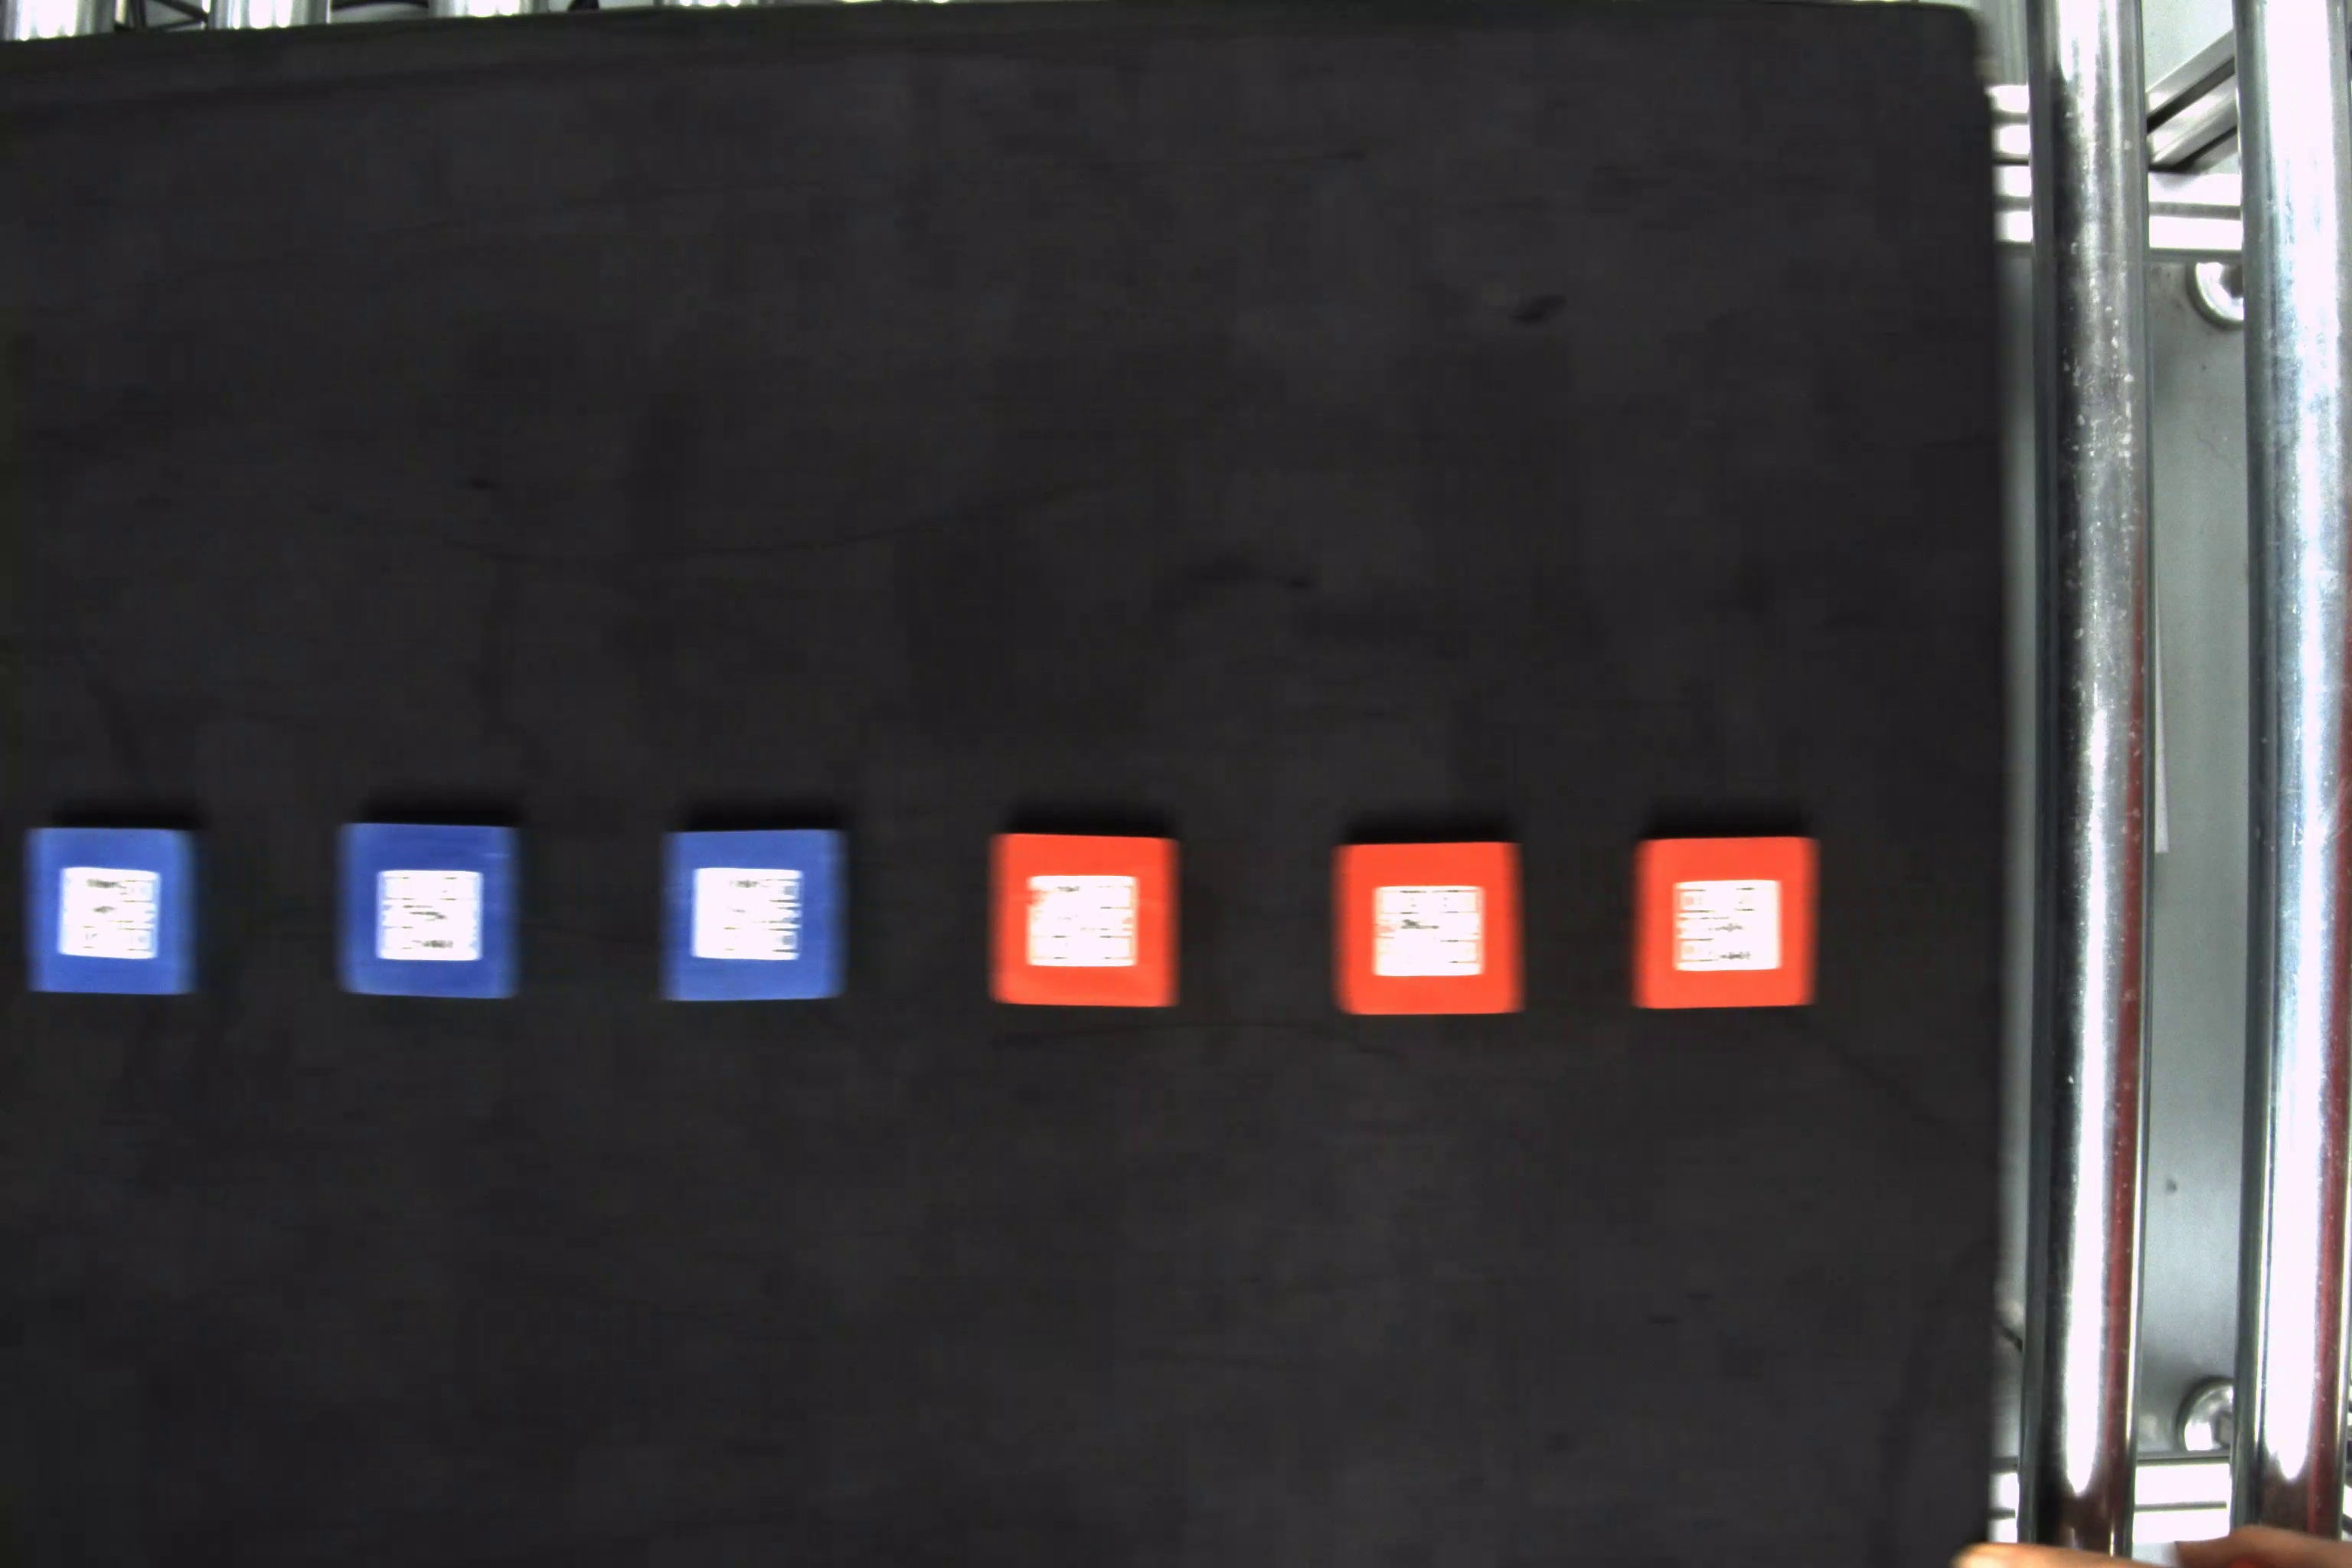wood: (985, 826, 1188, 1008), (654, 821, 854, 1001), (1332, 840, 1526, 1020), (331, 821, 527, 994), (19, 821, 205, 996), (1631, 835, 1820, 1004)
